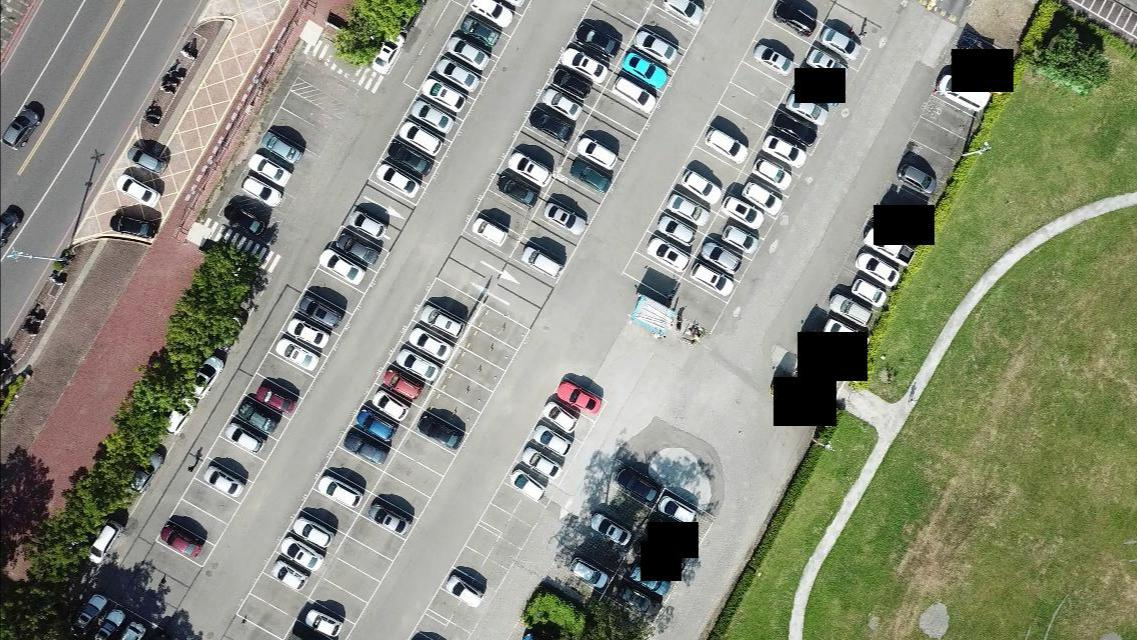vehicle: (861, 227, 917, 269), (936, 72, 994, 109), (558, 45, 607, 84), (565, 158, 615, 195), (279, 534, 324, 575), (1, 104, 41, 150), (68, 590, 107, 637), (85, 518, 123, 566), (507, 149, 552, 187), (611, 76, 657, 113), (852, 252, 902, 286), (825, 292, 873, 327), (126, 447, 161, 495), (200, 462, 245, 499), (420, 77, 466, 113), (416, 415, 463, 450), (761, 133, 809, 167), (445, 35, 490, 71), (116, 172, 161, 208), (822, 319, 871, 352), (622, 53, 668, 88), (261, 131, 304, 168), (613, 465, 656, 502), (188, 355, 225, 398), (317, 250, 365, 283), (647, 236, 692, 271), (397, 120, 442, 155), (342, 430, 387, 465), (316, 475, 365, 507), (540, 201, 586, 235), (496, 172, 542, 206), (619, 583, 661, 620), (158, 522, 200, 559), (246, 153, 293, 186), (411, 97, 454, 133), (387, 142, 430, 178), (375, 162, 419, 197), (786, 91, 831, 125), (443, 575, 488, 609), (272, 340, 321, 371), (590, 509, 631, 546), (700, 240, 743, 275), (521, 244, 564, 279), (528, 106, 571, 141), (253, 383, 297, 417), (234, 401, 276, 436), (705, 129, 748, 163), (667, 193, 711, 226), (633, 32, 677, 65), (286, 316, 331, 348), (555, 382, 600, 414), (692, 263, 734, 297), (679, 169, 721, 203), (540, 86, 582, 120), (291, 516, 333, 550), (720, 195, 764, 227), (807, 48, 848, 82), (740, 182, 783, 214), (532, 425, 575, 457), (508, 468, 546, 504), (753, 156, 793, 190), (437, 59, 479, 91), (296, 296, 338, 328), (775, 114, 818, 145), (821, 27, 861, 60), (576, 22, 617, 54), (627, 563, 668, 595), (654, 213, 696, 244), (354, 408, 396, 439), (224, 421, 263, 454), (336, 232, 376, 264), (372, 32, 403, 73), (568, 560, 609, 591), (575, 138, 617, 168), (239, 176, 281, 206), (271, 560, 309, 593), (471, 217, 511, 248), (366, 504, 406, 535), (225, 206, 267, 235), (164, 393, 193, 435), (774, 4, 813, 35), (541, 400, 580, 431), (897, 164, 937, 194), (755, 43, 793, 74), (520, 447, 561, 475), (553, 68, 590, 99), (461, 14, 498, 45), (89, 608, 126, 639), (721, 224, 758, 254), (471, 1, 512, 28), (850, 277, 888, 306), (126, 146, 164, 174), (350, 208, 385, 238), (662, 1, 703, 24), (304, 609, 343, 633), (110, 217, 155, 237), (0, 204, 19, 248), (119, 621, 146, 639)
